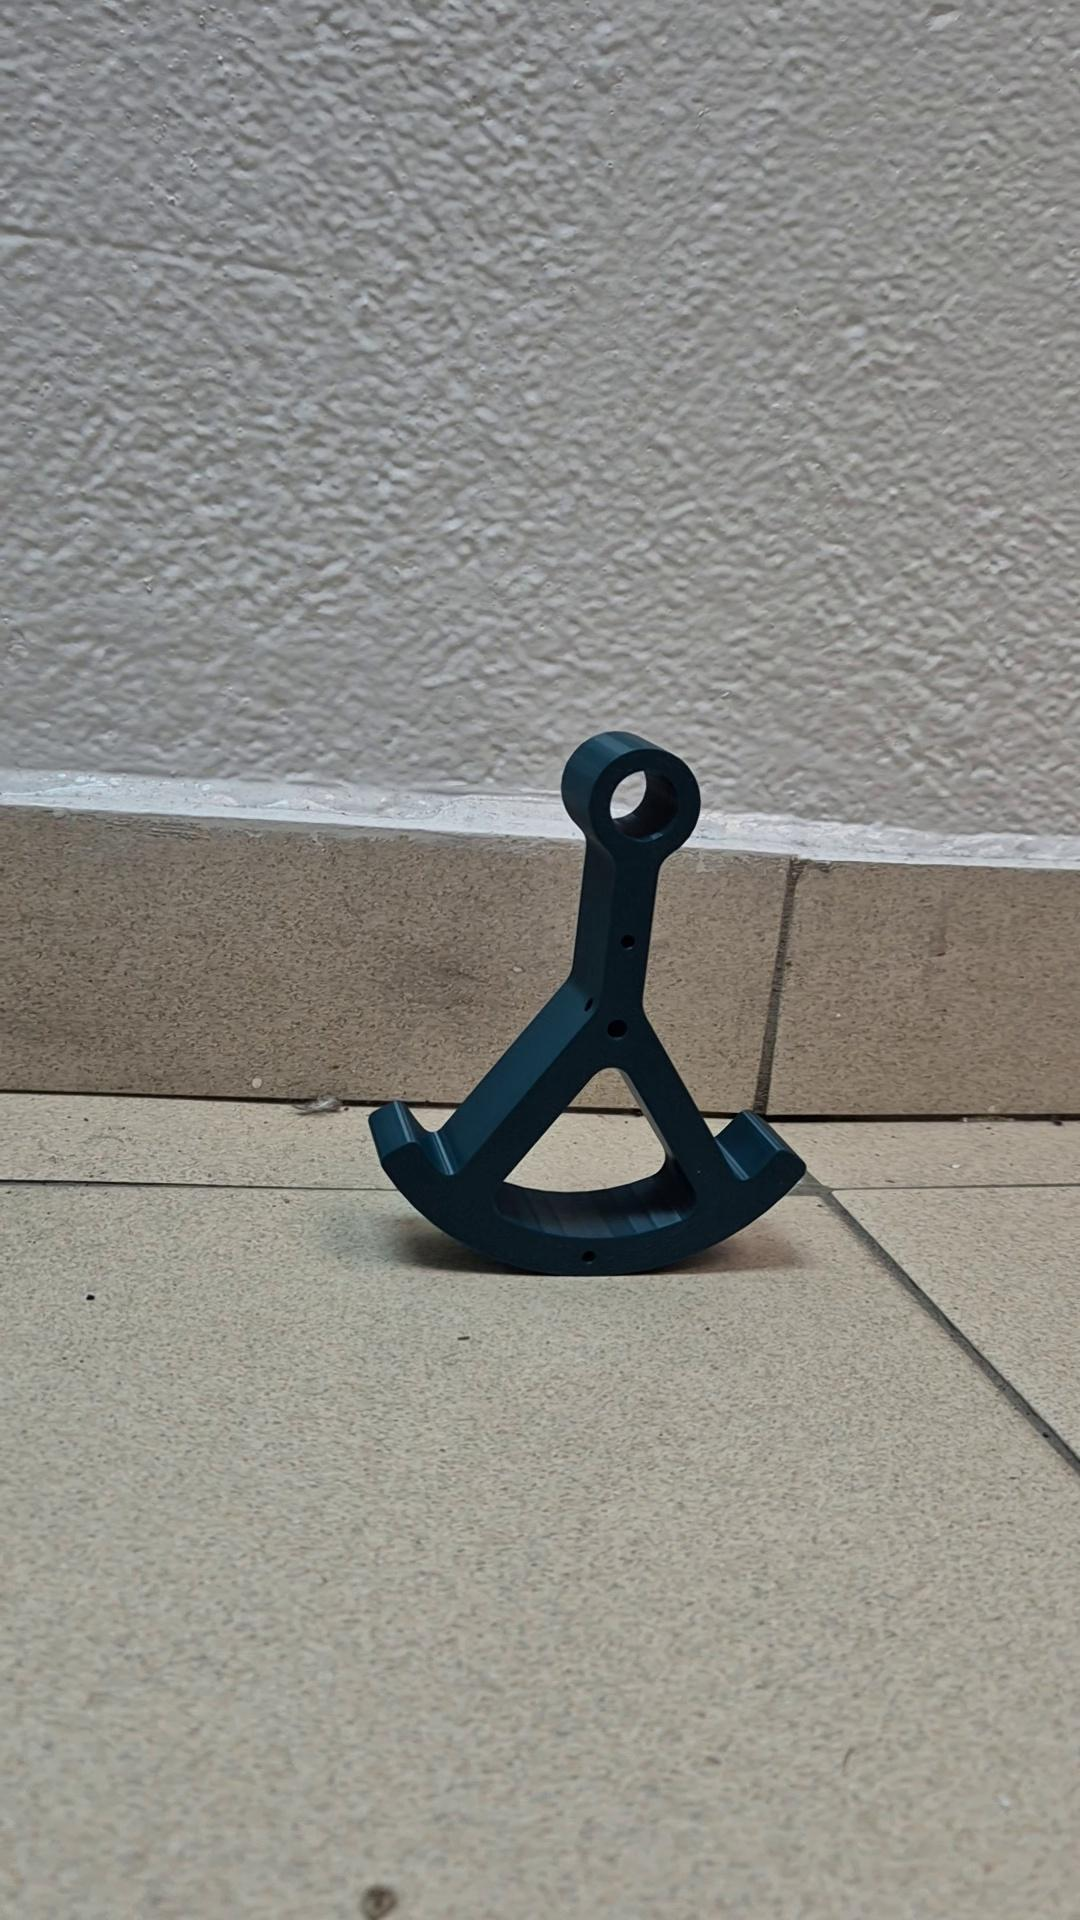Paddles: (365, 728, 810, 1279)
